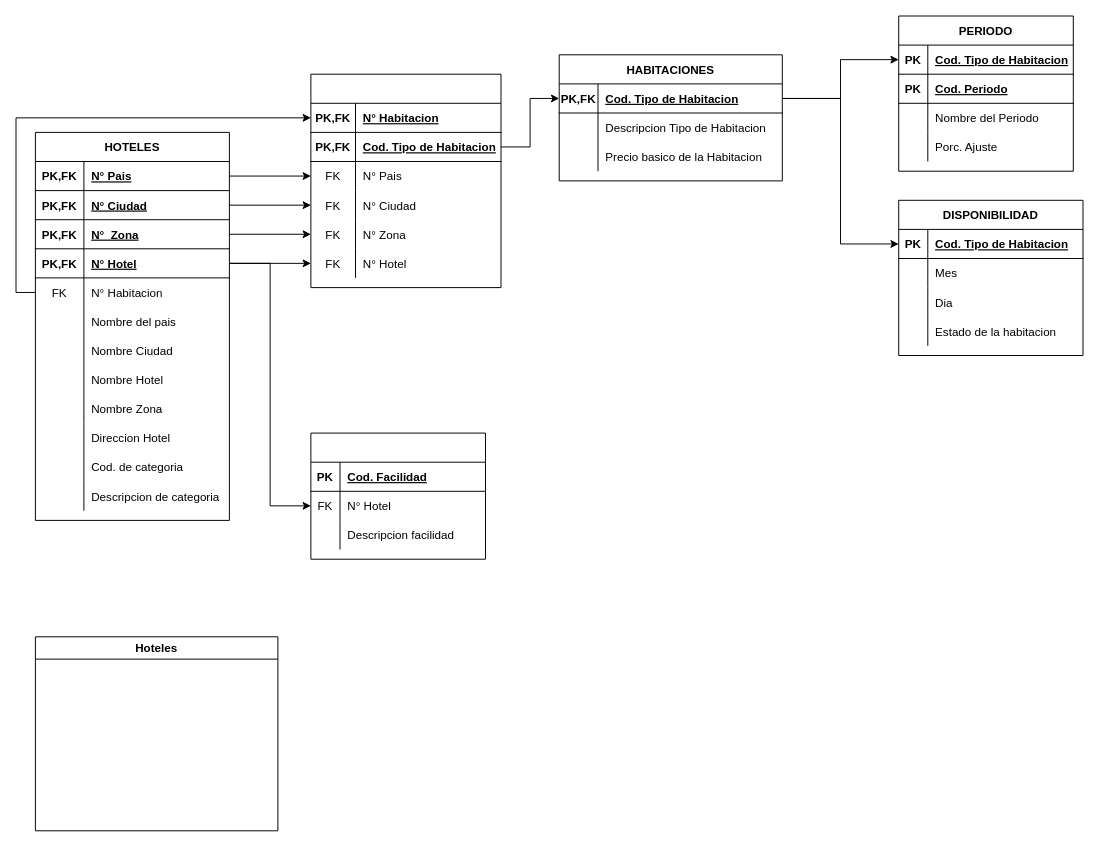
Image size: 1099x847. Some labels were removed from this diagram. The box of each missing label's shape, as (x1, y1, x2, y2) in pixels:
FACILIDADES HOTEL: (310, 432, 485, 559)
HABITACIONES X HOTEL: (310, 73, 501, 288)
